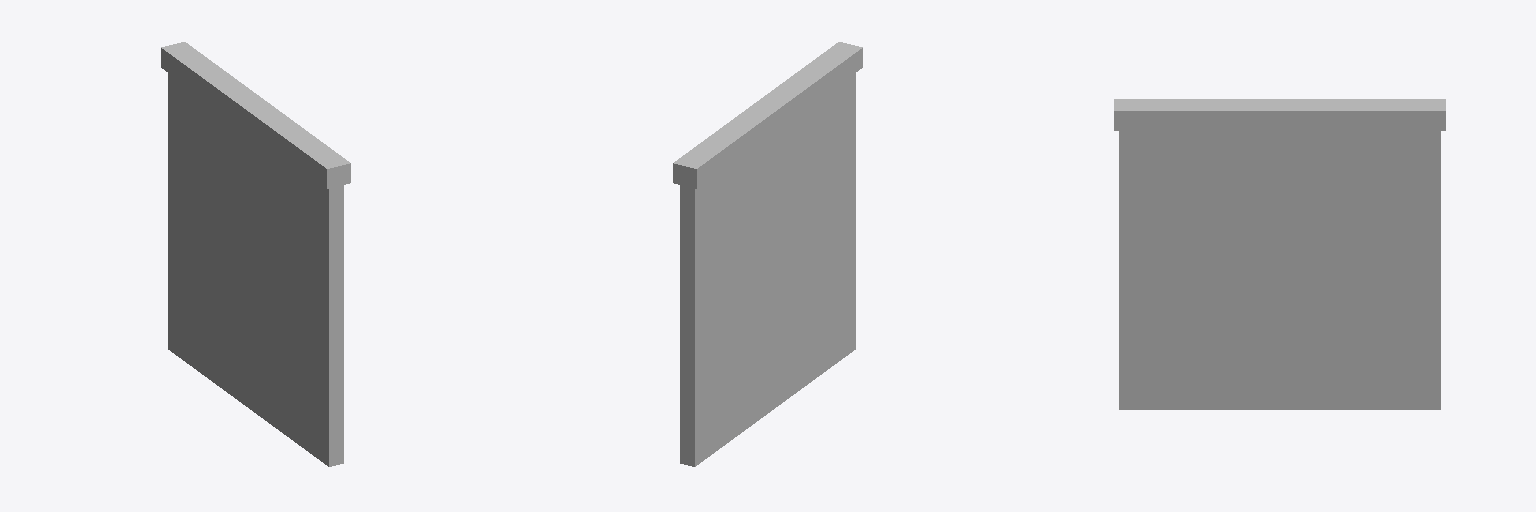
The model's file is door.obj.
The picture shows the model from 3 angles: view 1: azimuth 30°, elevation 25°; view 2: azimuth 150°, elevation 25°; view 3: azimuth 270°, elevation 25°; orthographic projection.
Visible parts, largest first — view 1: door; view 2: door; view 3: door.
Part boxes in pixels (left/top/right/bottom): door: left=161, top=42, right=350, bottom=466; door: left=673, top=42, right=862, bottom=466; door: left=1114, top=99, right=1445, bottom=409.
Bounding box in the file's own units: 5 × 60 × 60.